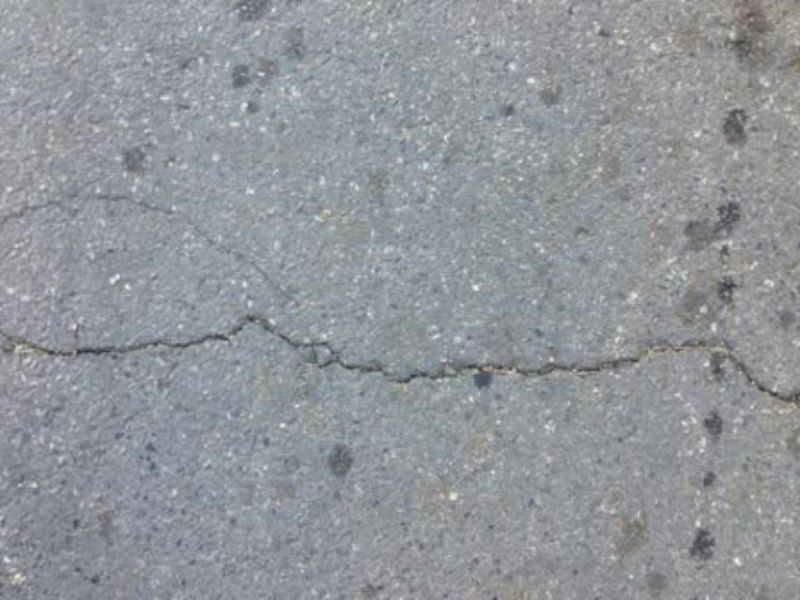crack: (6, 301, 791, 457)
